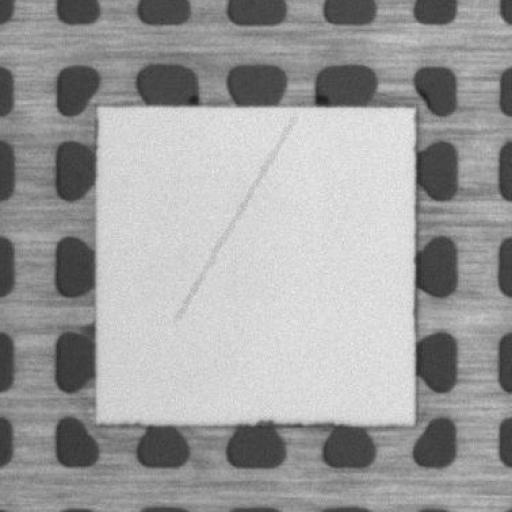DIE_CRACK: (174, 116, 293, 320)
